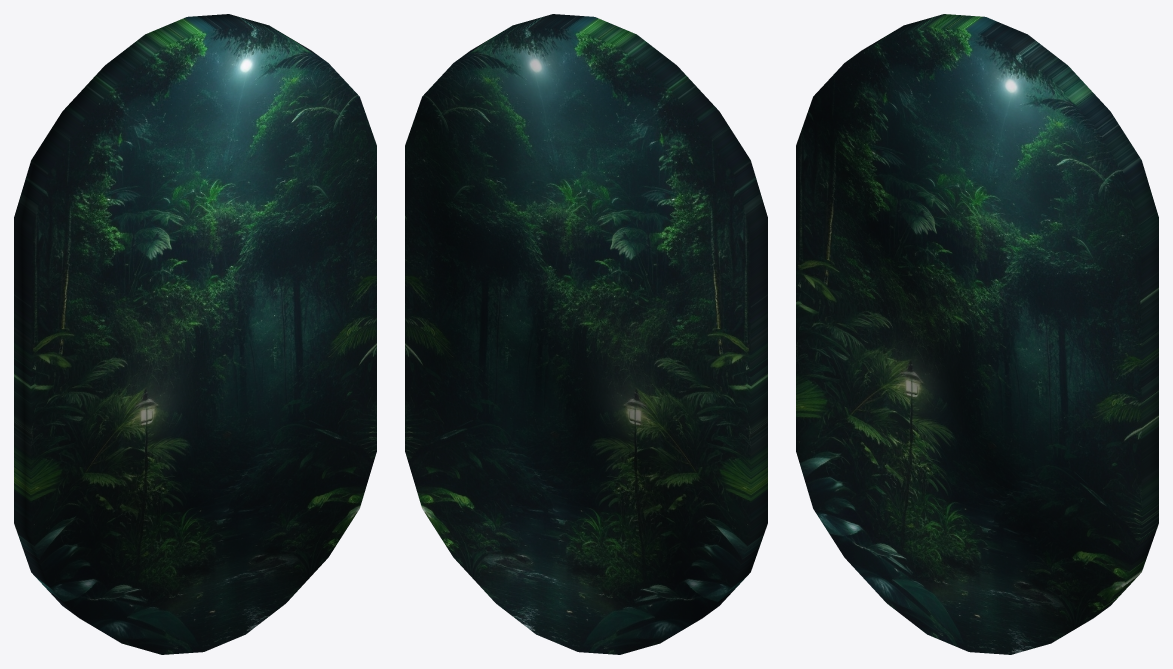
The model's file is 傳送入口.fbx.
3 renders of one model, left to right at view 1: azimuth 30°, elevation 25°; view 2: azimuth 150°, elevation 25°; view 3: azimuth 330°, elevation 25°, orthographic.
Visible parts, largest first — view 1: 傳送門; view 2: 傳送門; view 3: 傳送門.
Boxes of the visible parts, x1,y1,x2,y2 form: 傳送門: (14, 14, 376, 654); 傳送門: (405, 14, 767, 654); 傳送門: (796, 14, 1158, 654).
Bounding box in the file's own units: 90.51 × 7.69 × 156.
1 material, 1 textured.
